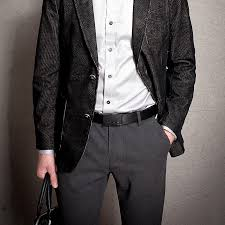F_M_suit jacket: (34, 1, 201, 162)
F_belt: (85, 103, 158, 128)
F_dress pants: (52, 118, 169, 223)
